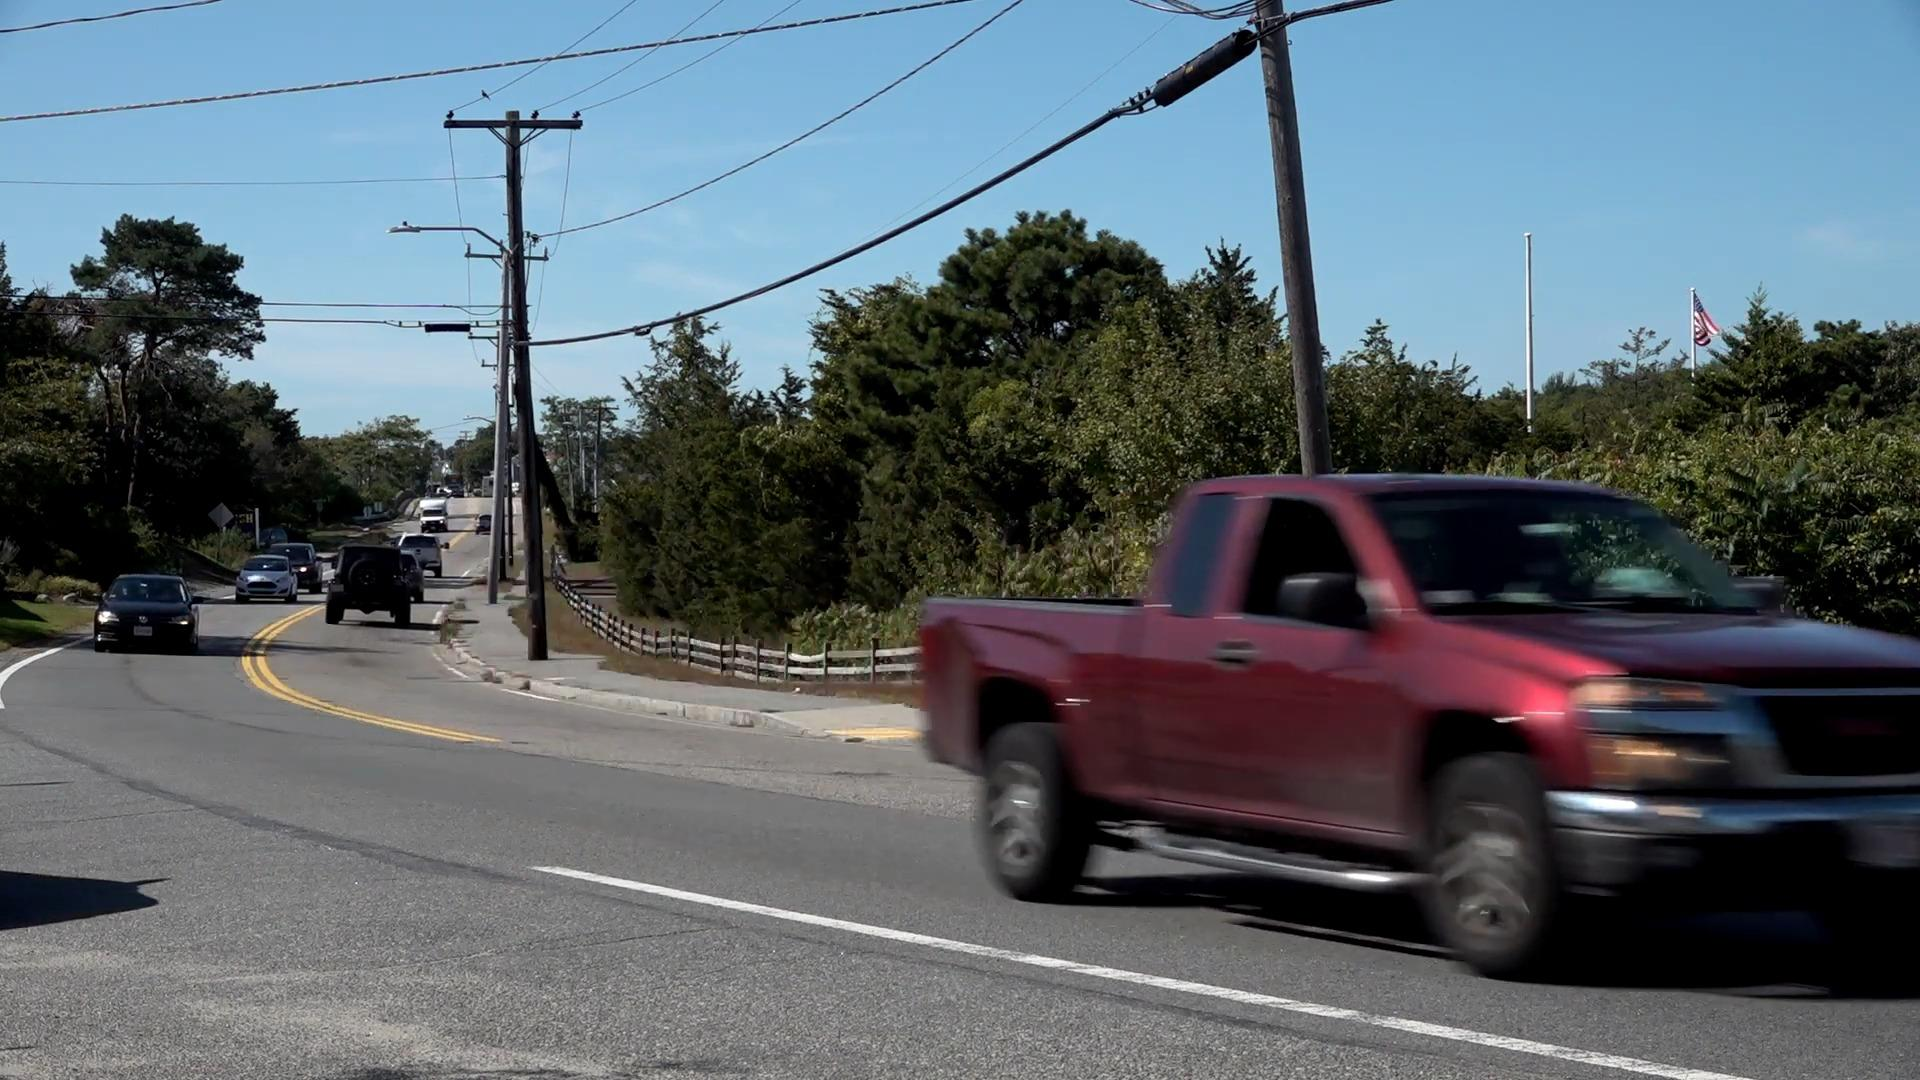pickup: (923, 470, 1920, 990)
sedans: (90, 570, 201, 653), (233, 554, 297, 607)
suv: (323, 543, 416, 630)
